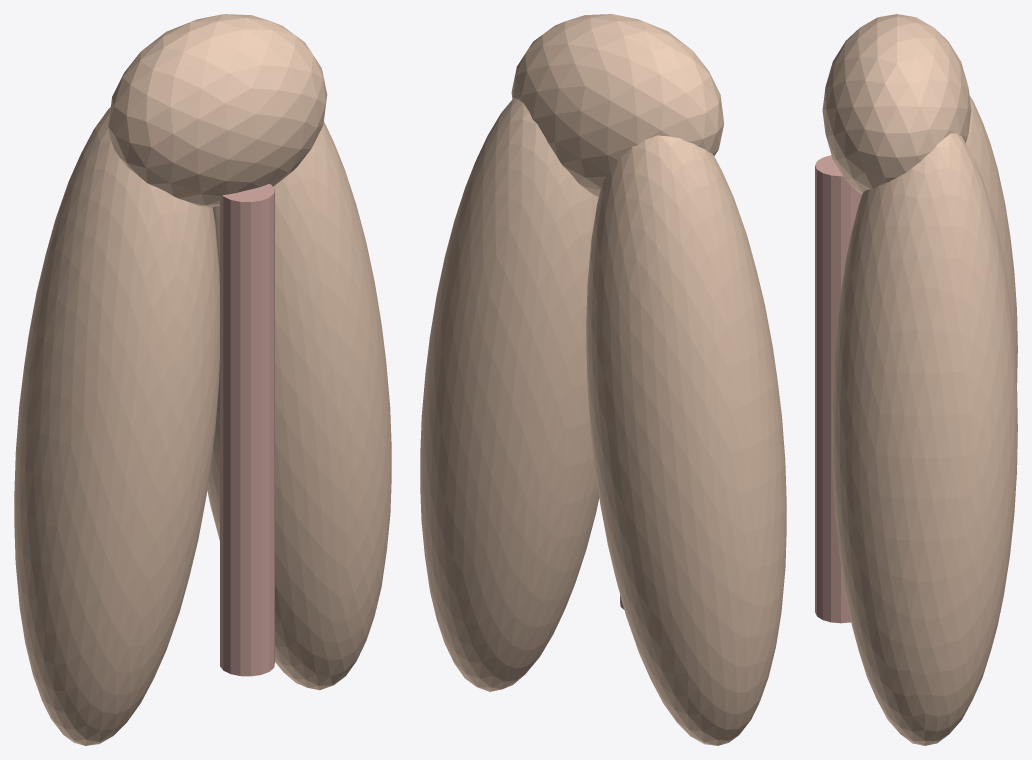
The model's file is vulva_v1.glb.
The picture shows the model from 3 angles, left to right: view 1: azimuth 30°, elevation 25°; view 2: azimuth 150°, elevation 25°; view 3: azimuth 270°, elevation 25°; orthographic projection. The views are drawn at different scales.
Visible parts, largest first — view 1: labia_L, labia_R, clitoral_hood, central_detail; view 2: labia_L, labia_R, clitoral_hood; view 3: labia_R, clitoral_hood, central_detail, labia_L.
Boxes of the visible parts, <box> form: labia_L: <box>14,107,219,745</box>; labia_R: <box>207,122,391,690</box>; clitoral_hood: <box>108,14,327,207</box>; central_detail: <box>220,184,274,676</box>; labia_L: <box>586,135,786,745</box>; labia_R: <box>420,98,599,691</box>; clitoral_hood: <box>511,14,724,196</box>; labia_R: <box>832,133,1017,745</box>; clitoral_hood: <box>822,14,971,194</box>; central_detail: <box>815,155,861,623</box>; labia_L: <box>966,96,1017,382</box>.
Size of the model in its own units: 0.0412 by 0.0788 by 0.0218.
